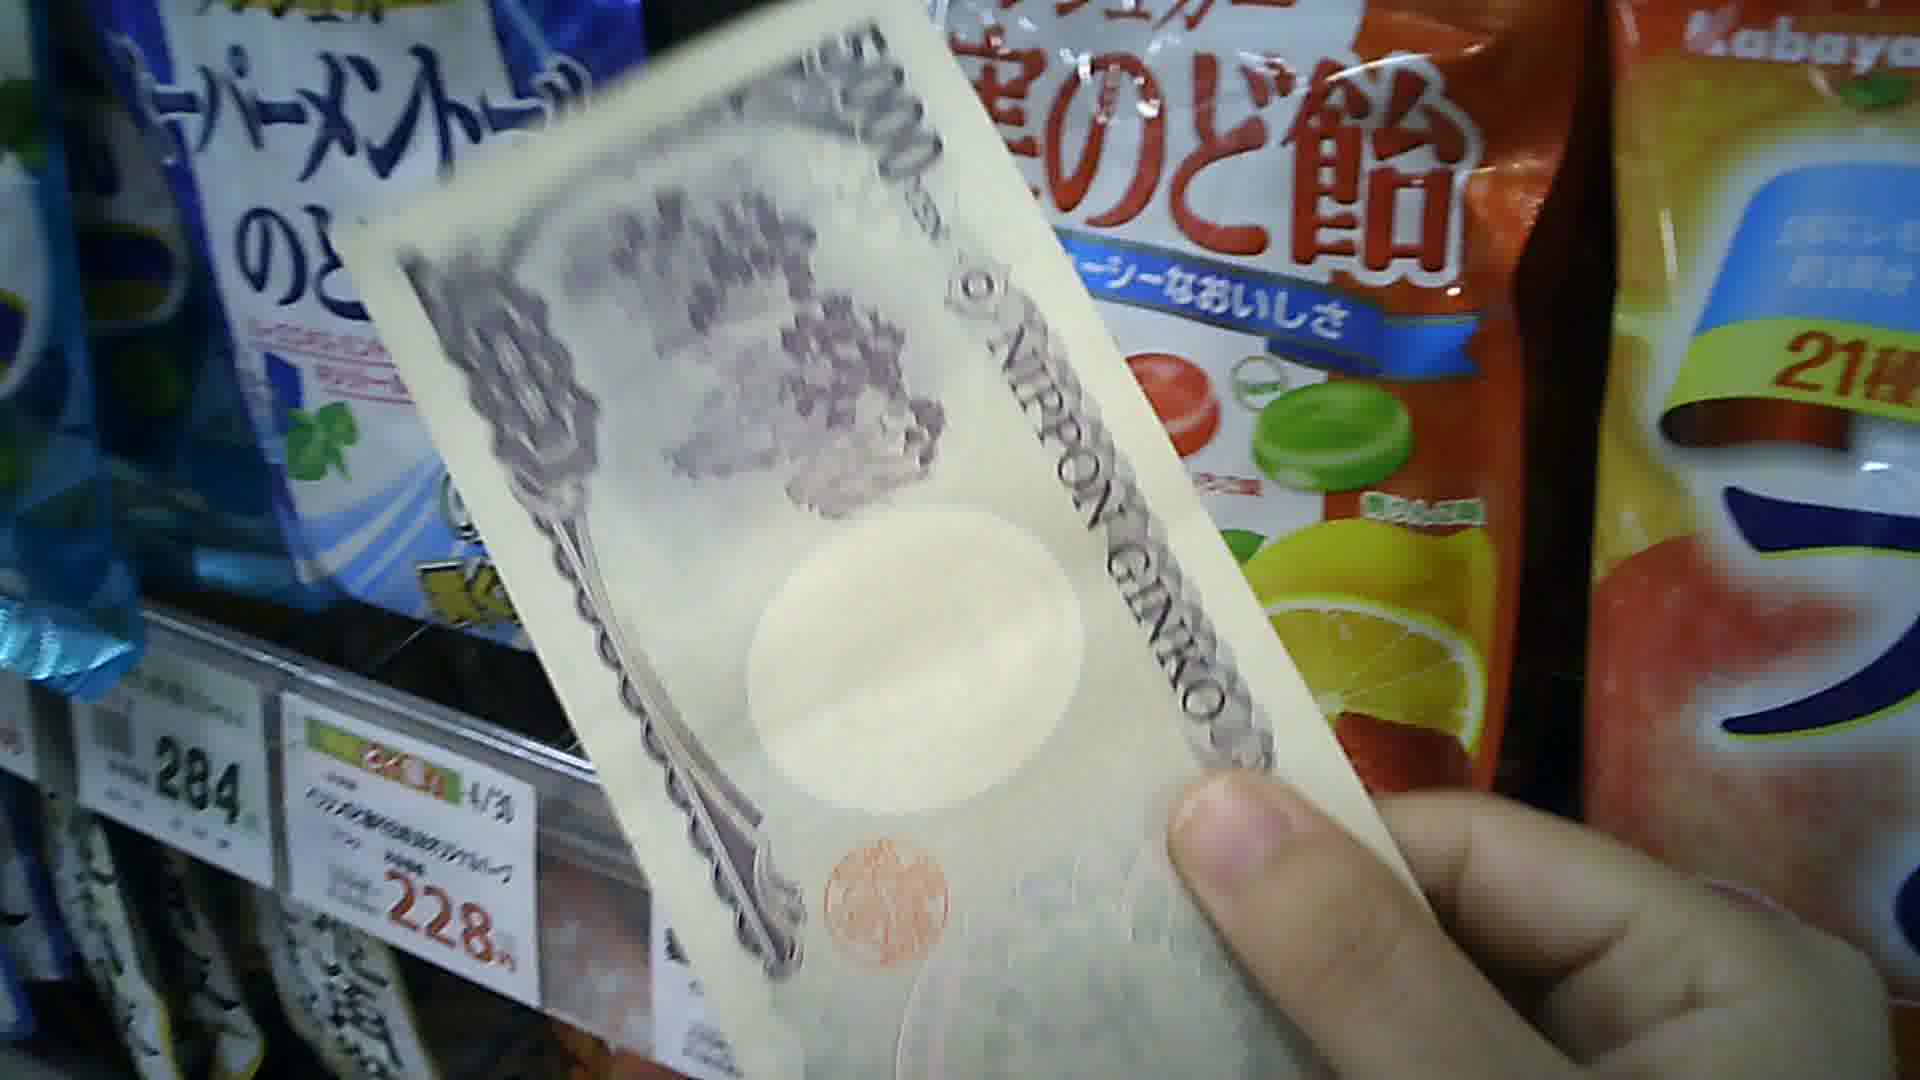5,000 Yen: (335, 17, 1402, 1052)
